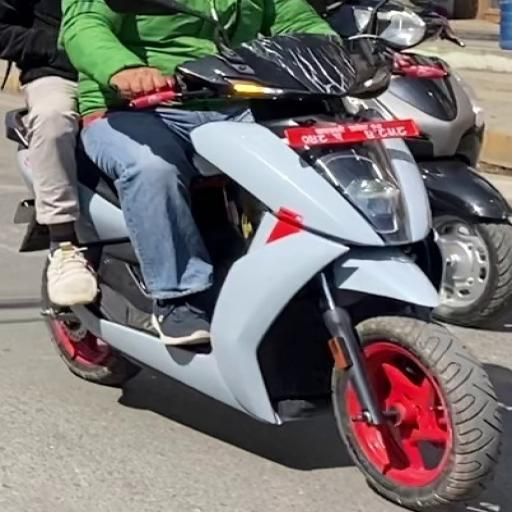license_plate: (282, 117, 426, 152)
